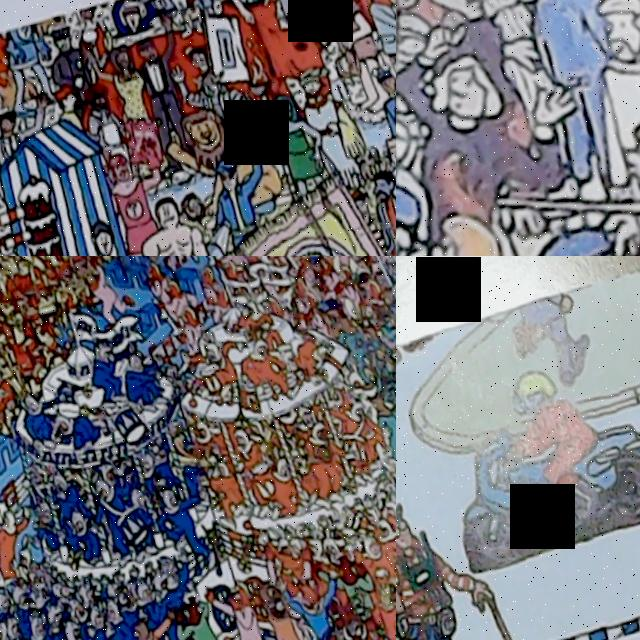waldo: (396, 493, 422, 565), (179, 41, 216, 80), (372, 273, 387, 293)
